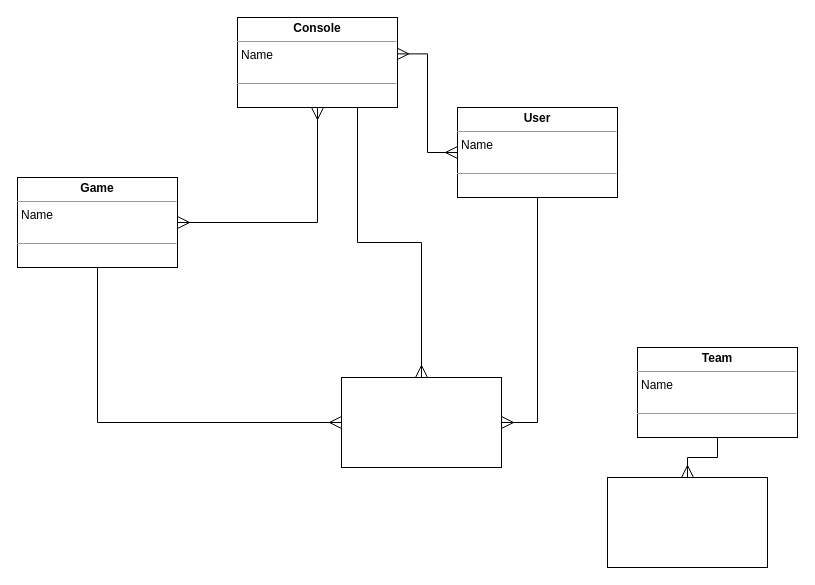
Image size: 815x585. Some labels were removed from this diagram. The centre of each missing label's shape, as x and y in pixels:
GameResult DateTime Points: pixel 421 422
Player Name Jersey: pixel 687 522
